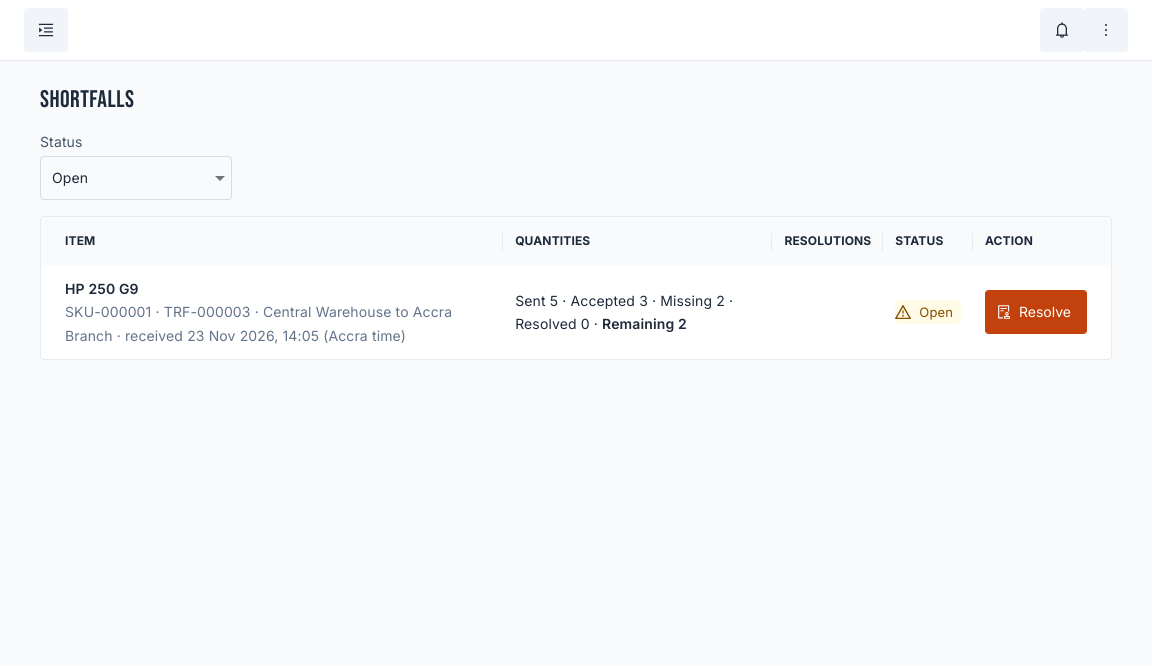
Test: shortfalls screen › a fully resolved line answers 409 and the message shows
The width and height of the screenshot is (1152, 665).
Click the button with aria-label "Resolve shortfall of HP 250 G9" at (1036, 312), box [985,290,1087,334]
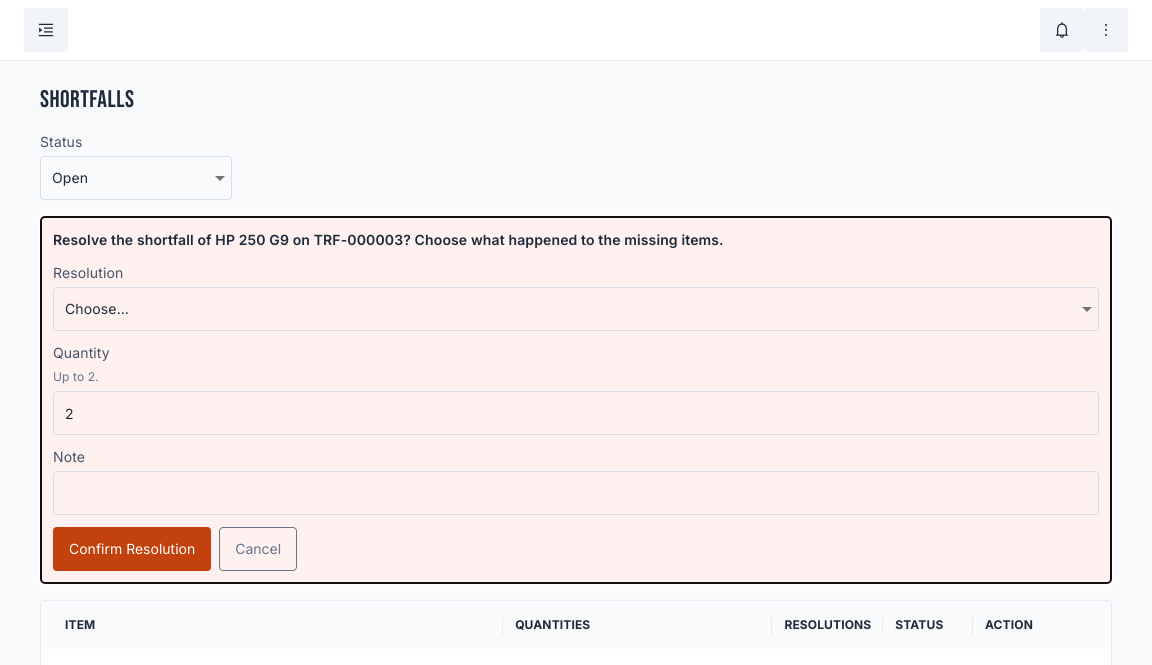
Select "Confirm loss" in the dropdown labelled "Resolution" at (576, 309), box [53,287,1099,331]
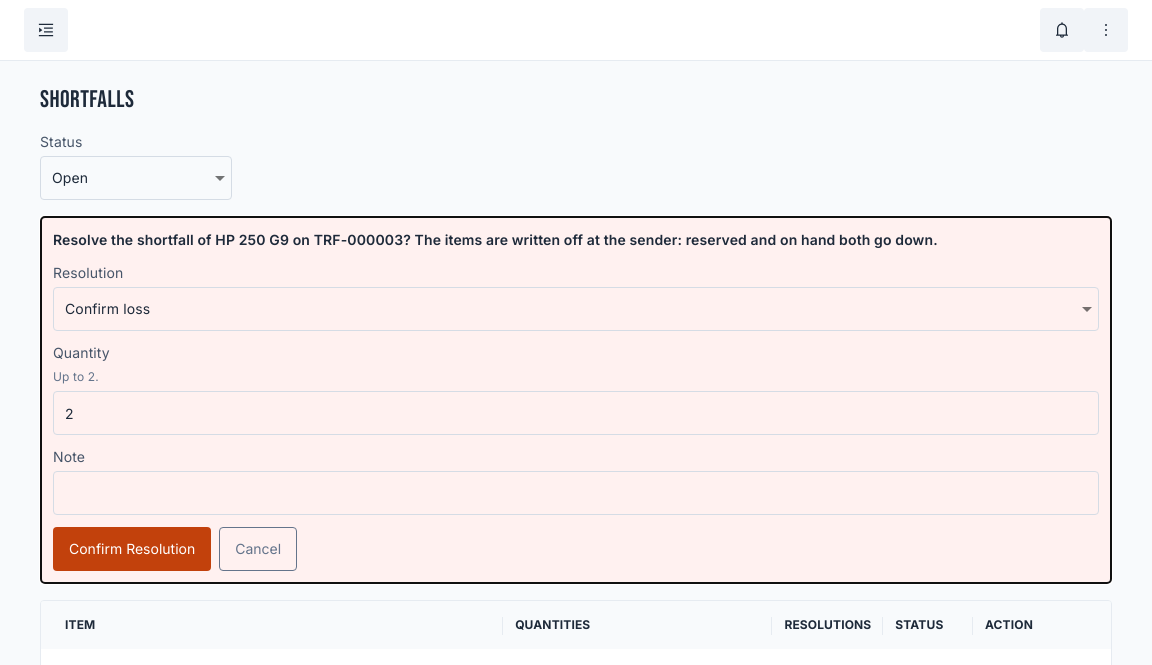
Replace the text in the field labelled "Quantity" with "1" at (576, 413), box [53,391,1099,435]
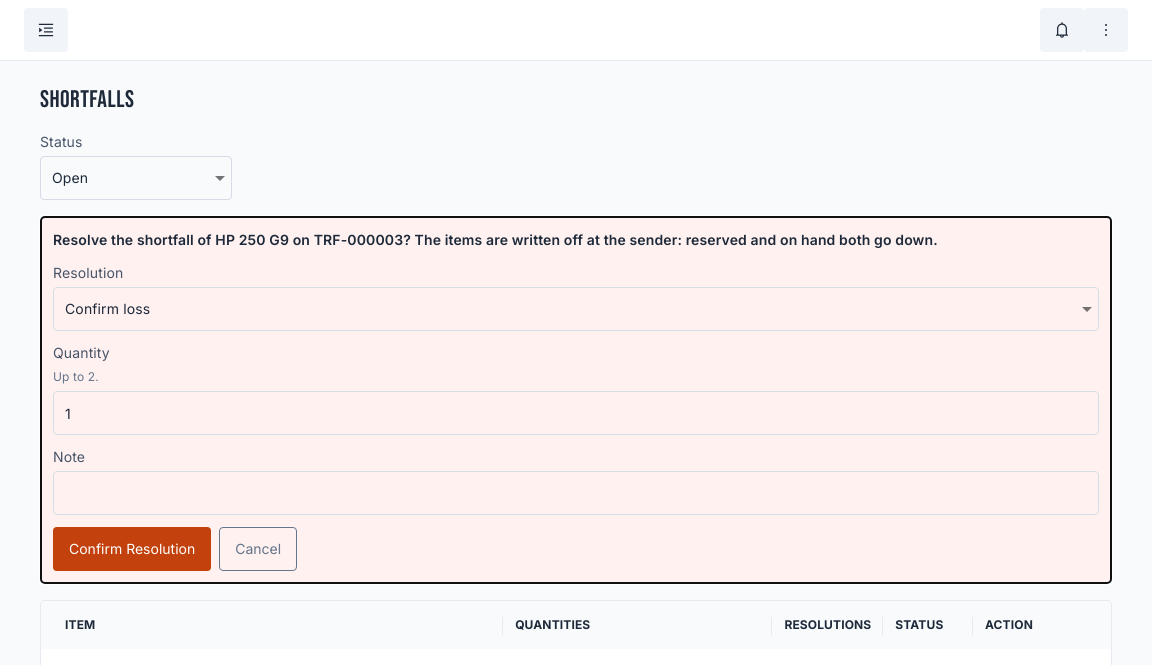
Type "Checked with the courier." into the field labelled "Note" at (576, 493), box [53,471,1099,515]
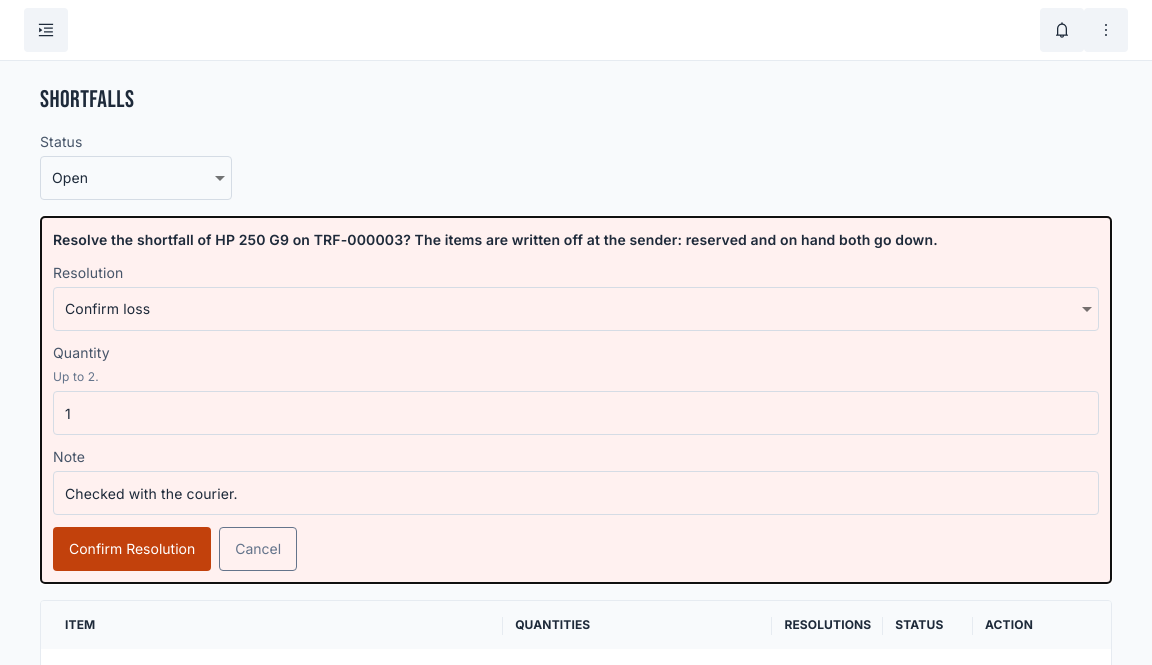
Click the button "Confirm resolution" at (132, 549), box [53,527,211,571]
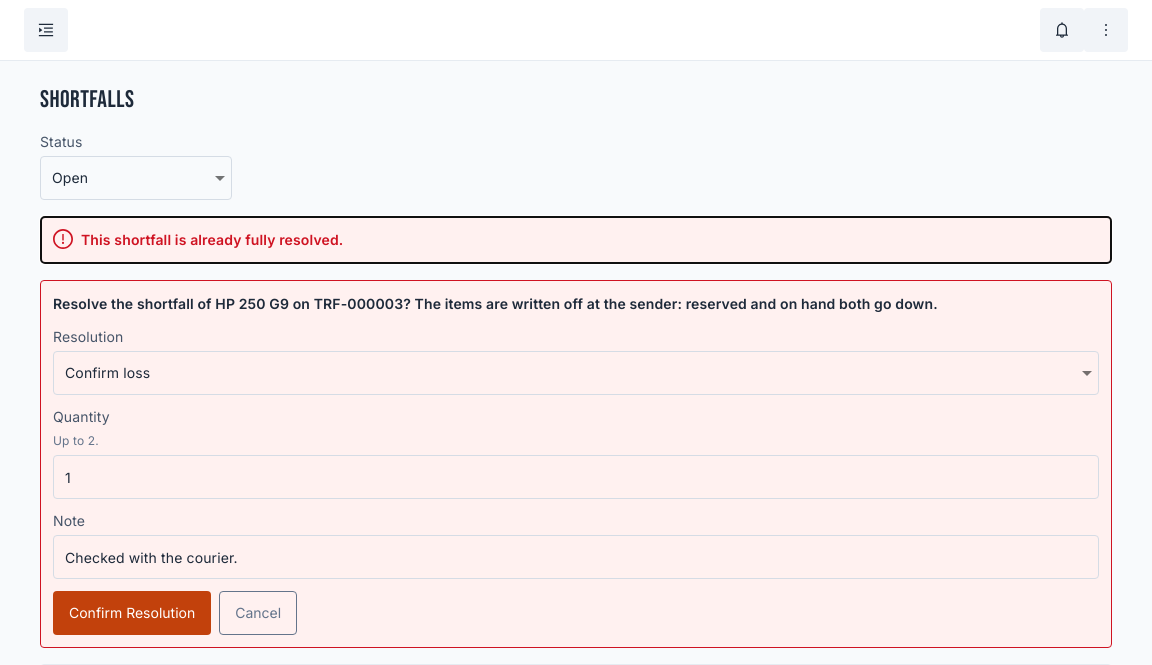
Check: the text "This shortfall is already fully resolved." is shown, box [81,229,343,251]
